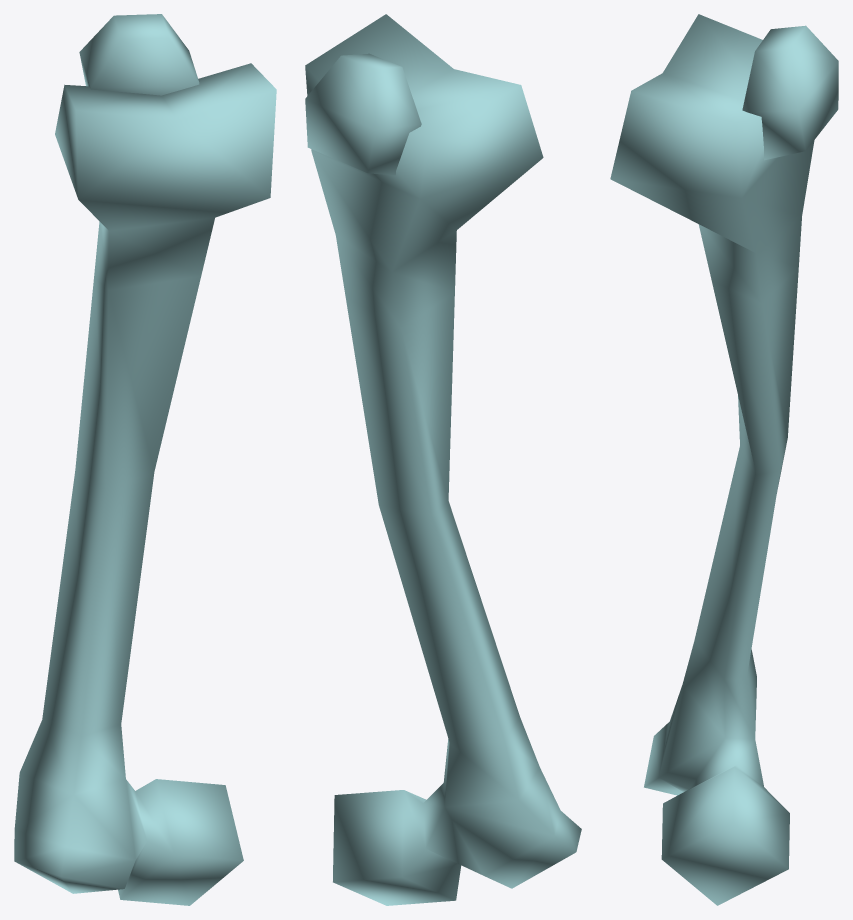
The model's file is Skelly_thigh.L.fbx.
3 renders of one model, left to right at view 1: azimuth 30°, elevation 25°; view 2: azimuth 150°, elevation 25°; view 3: azimuth 270°, elevation 25°, orthographic.
Parts seen in each view (by area): view 1: Skelly_thigh.L; view 2: Skelly_thigh.L; view 3: Skelly_thigh.L.
Boxes of the visible parts, bbox=[...] form: Skelly_thigh.L: bbox=[14, 14, 276, 905]; Skelly_thigh.L: bbox=[305, 14, 581, 905]; Skelly_thigh.L: bbox=[610, 14, 838, 905].
Bounding box in the file's own units: 15.33 × 50.26 × 12.03.
